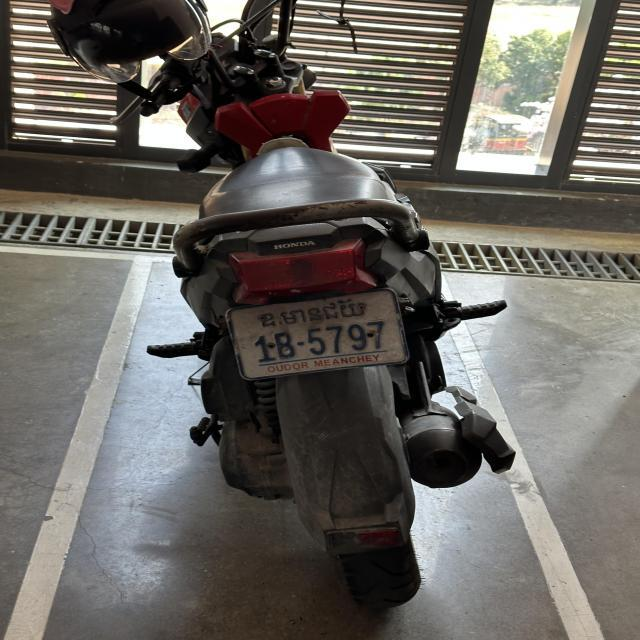Oudor_Meanchey: (254, 296, 368, 329)
